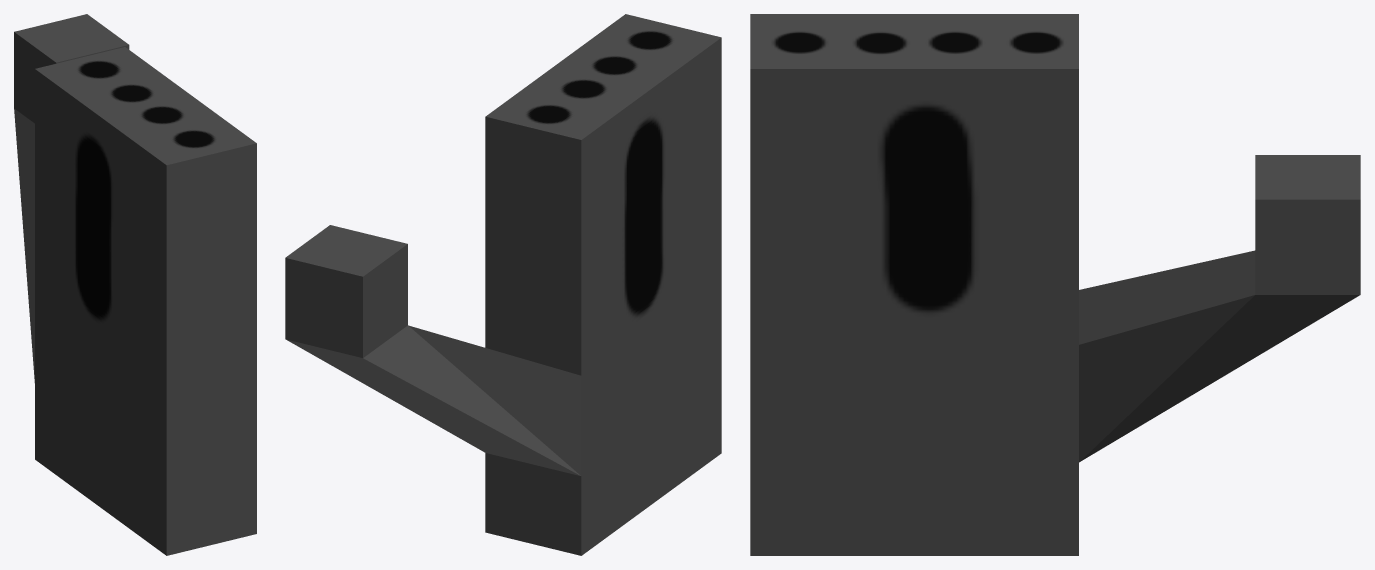
File: shoulder1.obj
3 renders of one model, left to right at view 1: azimuth 30°, elevation 25°; view 2: azimuth 150°, elevation 25°; view 3: azimuth 270°, elevation 25°, orthographic. The views are drawn at different scales.
Parts seen in each view (by area): view 1: Shoulder1; view 2: Shoulder1; view 3: Shoulder1.
Part boxes in pixels (<box>): Shoulder1: <box>14,14,256,555</box>; Shoulder1: <box>285,14,721,555</box>; Shoulder1: <box>750,14,1360,555</box>.
Bounding box in the file's own units: 1.12 × 2.53 × 2.87.
Materials: 1 (1 with a texture image).
